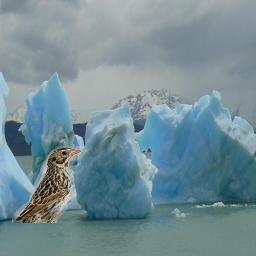Sparrow: (13, 147, 82, 224)
